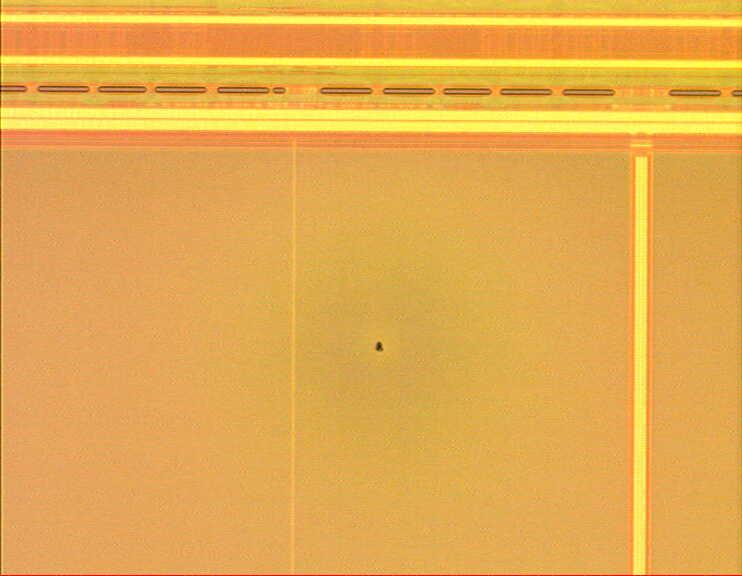PIQ PARTICLE: (373, 340, 389, 356)
